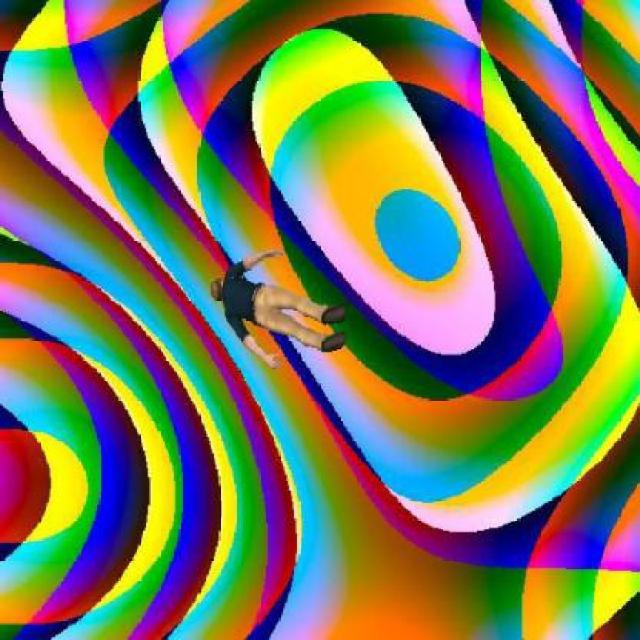Person: (211, 246, 351, 371)
